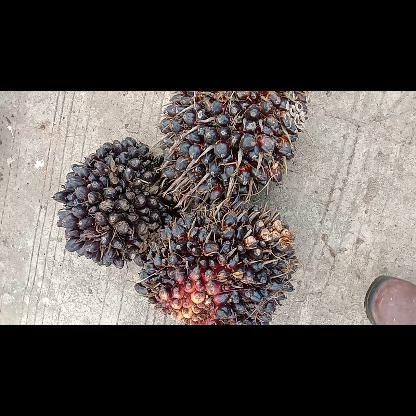TBS mentah: (132, 198, 298, 324), (155, 90, 311, 208), (49, 136, 182, 272)
